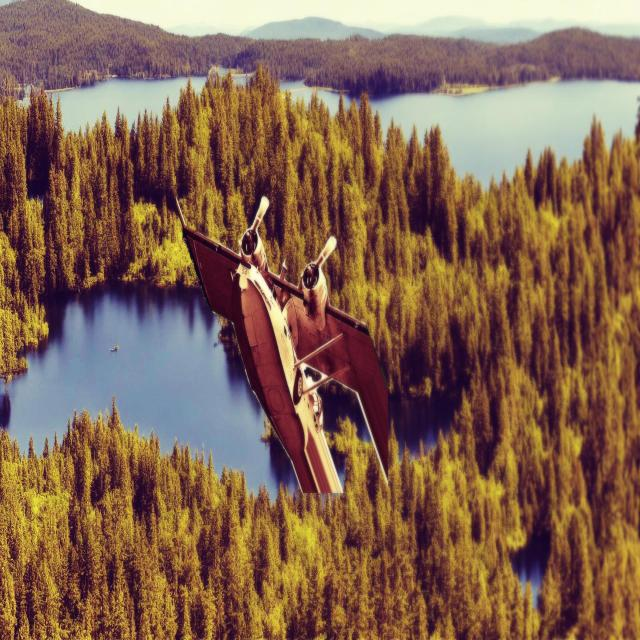airplane: (174, 193, 390, 497)
